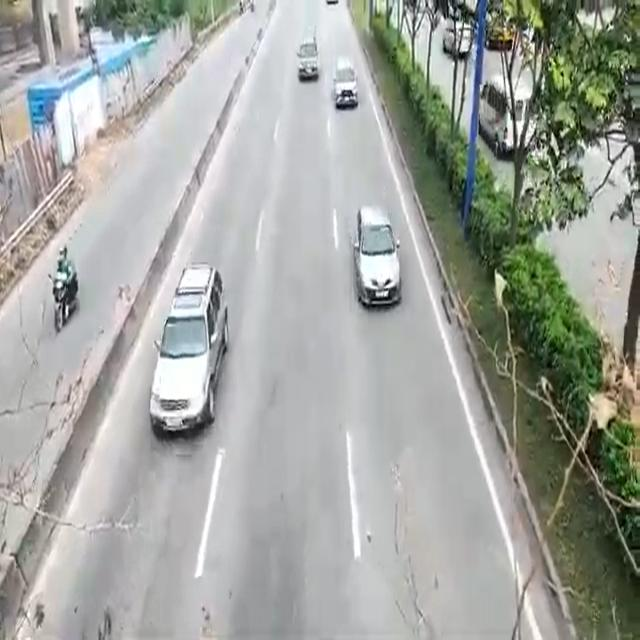car: (164, 269, 220, 435), (352, 208, 402, 310), (331, 58, 361, 112), (298, 28, 318, 86)
motor: (49, 246, 80, 336)
